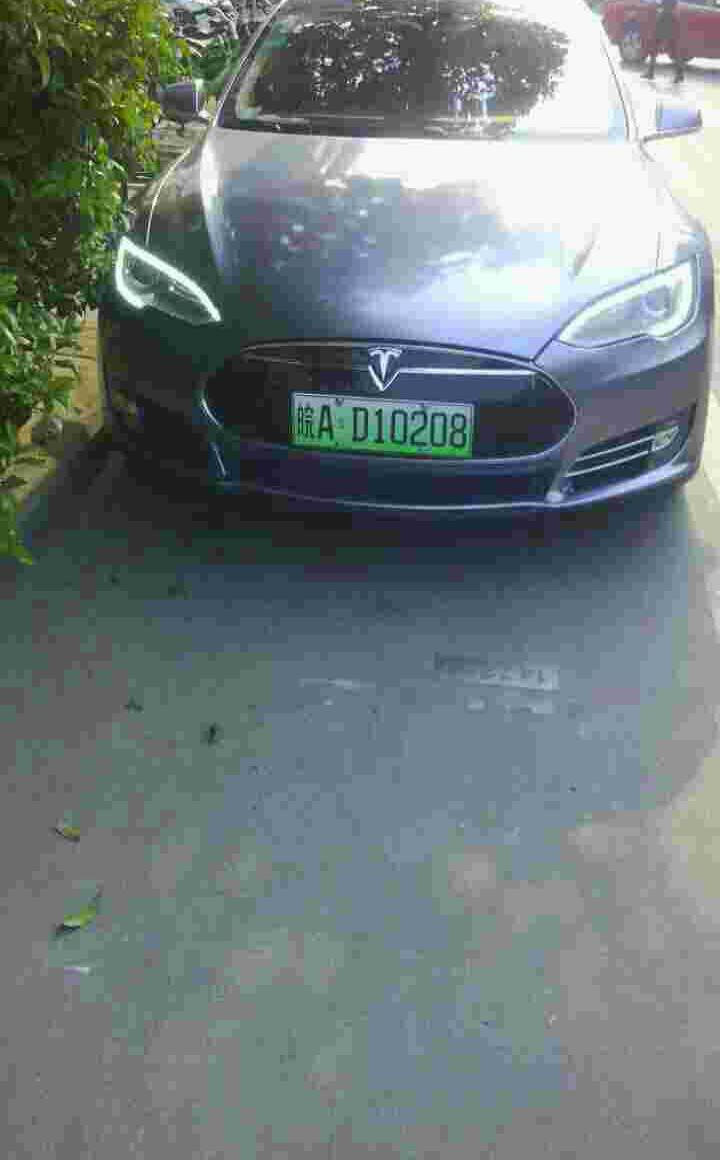car_green: (291, 389, 482, 458)
